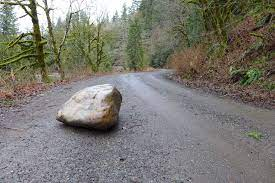obstacle: (52, 78, 134, 136)
